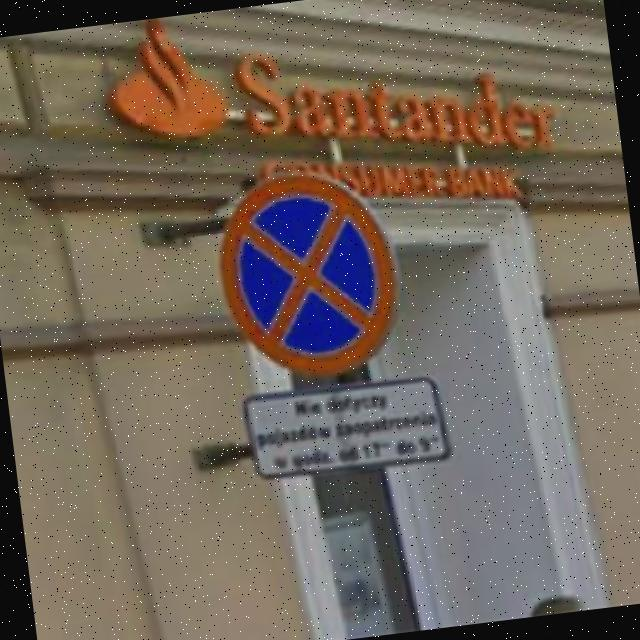Zakaz zatrzymywania sie: (207, 159, 410, 388)
